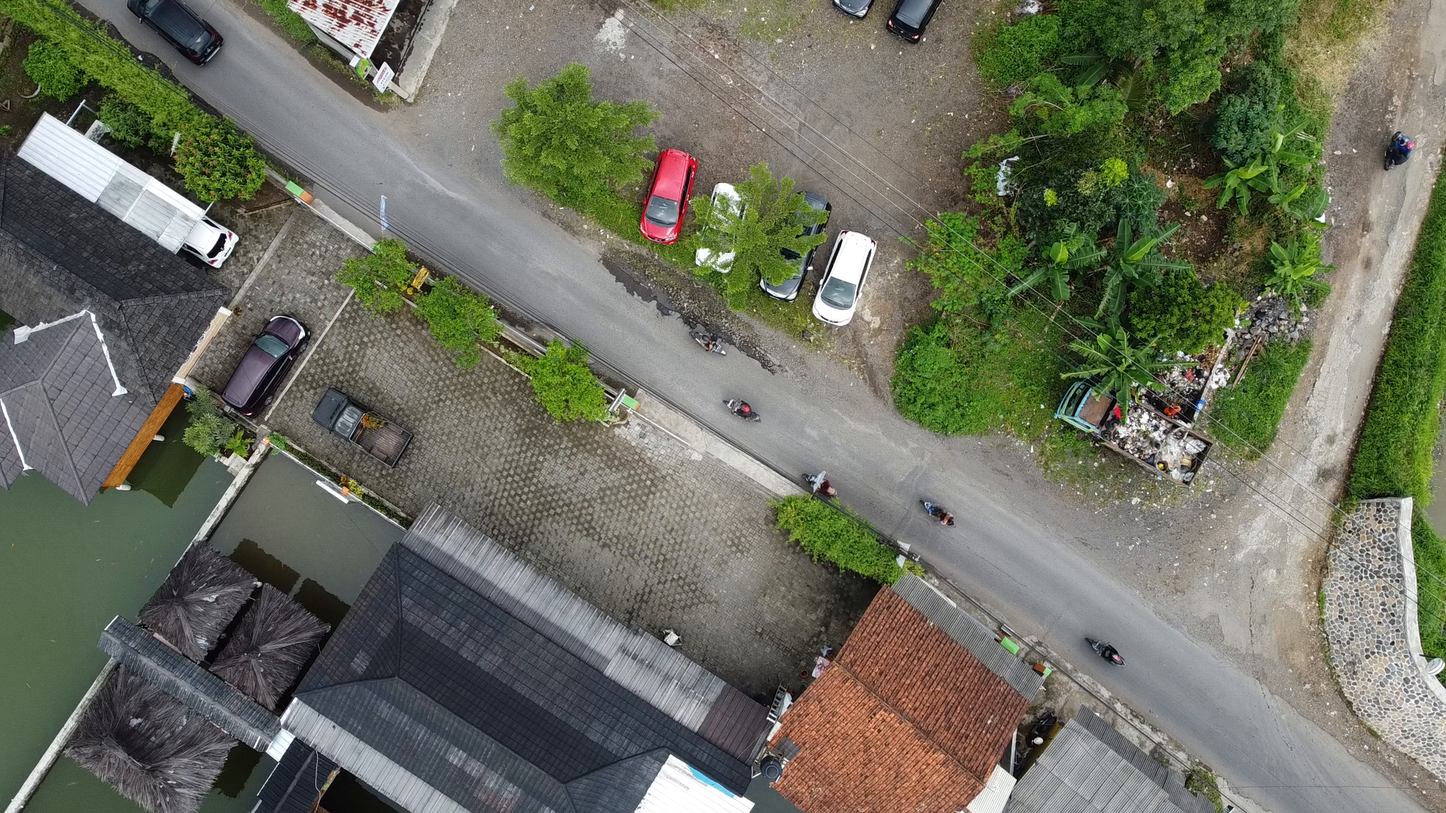mobil: (304, 379, 423, 470), (758, 173, 840, 305), (220, 307, 315, 414), (802, 219, 884, 327), (116, 1, 234, 68), (640, 141, 705, 254), (696, 171, 747, 277), (169, 218, 251, 271), (880, 1, 947, 57)
